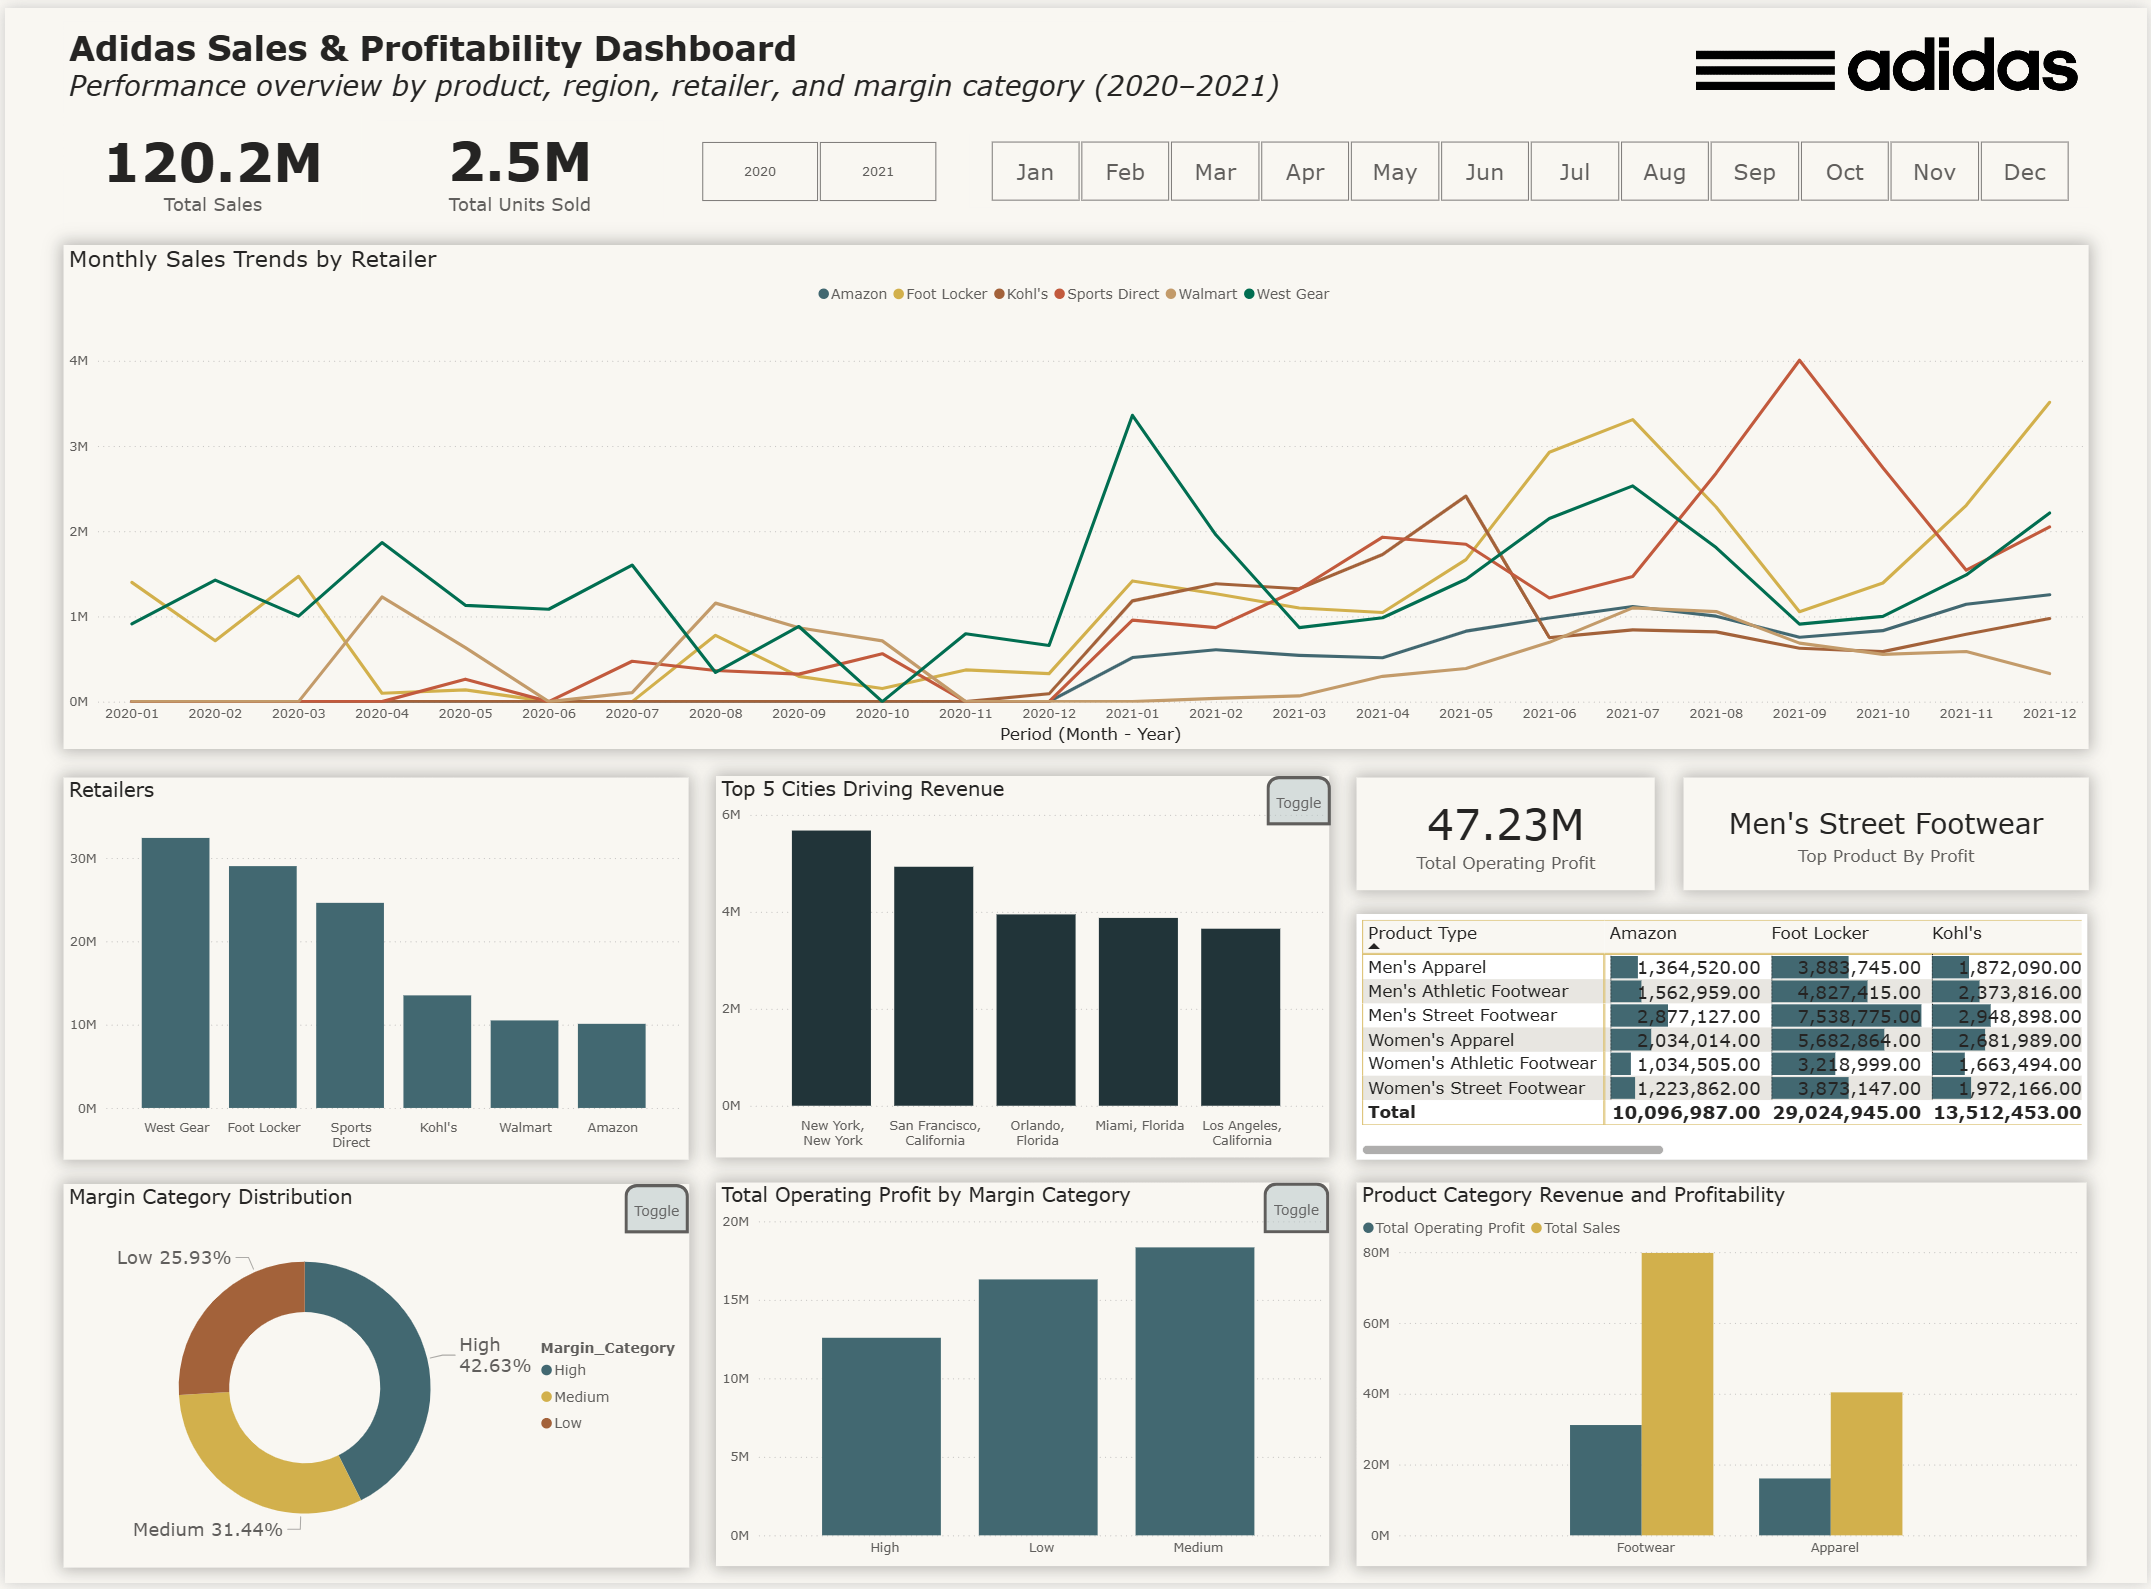

What the dashboard file says about the page in this screenshot:
{"tool":"powerbi","page":{"name":"Page 1","canvas":[2040,1500],"ordinal":0},"visuals":[{"type":"card","fields":{"Values":["mydb fact_sales.Total Sales (No Gaps)"]},"box":[55.7,100,284.3,108.6],"z":0},{"type":"donutChart","title":"Margin Category Distribution","fields":{"Category":["mydb dim_operatingmargin.Margin_Category"],"Y":["mydb fact_sales.Avg Operating Profit (Weighted)"]},"box":[56,1119.9,596.2,365],"z":0,"group":"g3"},{"type":"slicer","fields":{"Values":["mydb dim_date.Year"]},"box":[642.9,125.7,262.9,60],"z":1000},{"type":"columnChart","title":"Top 5 Cities Driving Revenue","fields":{"Category":["mydb dim_location.City_State"],"Y":["Sum(mydb fact_sales.Total_sales)"]},"box":[677,732,584.3,363],"z":1000,"group":"g1"},{"type":"clusteredColumnChart","title":"Total Operating Profit by Margin Category","fields":{"Category":["mydb dim_operatingmargin.Margin_Category"],"Y":["Sum(mydb fact_sales.Operating_Profit)"]},"box":[677,1119,584,365],"z":1000,"group":"g2"},{"type":"slicer","fields":{"Values":["mydb dim_date.MonthShort"]},"box":[918.6,120,1065.7,70],"z":2000},{"type":"columnChart","title":"Retailers","fields":{"Category":["mydb dim_retailer.Retailer_Name"],"Y":["Sum(mydb fact_sales.Total_sales)"]},"box":[56.2,732.5,595,363.8],"z":3000},{"type":"card","fields":{"Values":["mydb fact_sales.Total Units Sold"]},"box":[354.3,107.1,272.9,92.9],"z":4000},{"type":"lineChart","title":"Monthly Sales Trends by Retailer","fields":{"Category":["mydb dim_date.Month_Year"],"Series":["mydb dim_retailer.Retailer_Name"],"Y":["mydb fact_sales.Total Sales (No Gaps)"]},"box":[55.7,225.7,1928.6,480],"z":5000},{"type":"clusteredColumnChart","title":"Product Category Revenue and Profitability","fields":{"Y":["mydb fact_sales.Total Operating Profit","mydb fact_sales.Total Sales"],"Category":["mydb dim_product.Category"]},"box":[1287,1119,695,365],"z":6000},{"type":"pivotTable","fields":{"Values":["mydb fact_sales.Total Sales (No Gaps)"],"Columns":["mydb dim_retailer.Retailer_Name"],"Rows":["mydb dim_product.Product"]},"box":[1287,862.9,695.7,234.3],"z":7000},{"type":"group","id":"g1","title":"Location group","box":[677,732,584.3,363.5],"z":8000},{"type":"group","id":"g2","title":"Cost group","box":[677,1119,584,365],"z":9000},{"type":"actionButton","title":"Show Region","box":[1201.4,731.4,61.4,47.1],"z":10000},{"type":"actionButton","title":"Show Avg","box":[1198.6,1118.6,62.9,48.6],"z":13000},{"type":"group","id":"g3","title":"Margin group","box":[56,1119,596.3,365.9],"z":14000},{"type":"actionButton","title":"Show Mix","box":[590,1120,61.4,47.1],"z":16000},{"type":"card","fields":{"Values":["mydb fact_sales.Total Operating Profit"]},"box":[1287.1,732.9,284.3,107.1],"z":17000},{"type":"card","fields":{"Values":["mydb fact_sales.TopProductByProfit"]},"box":[1598.6,732.9,385.7,107.1],"z":18000},{"type":"textbox","box":[55.7,12.9,1174.3,87.1],"z":19000},{"type":"image","box":[1601.4,12.9,382.9,80],"z":20000}]}

Visuals, with their boxes in screenshot pixels (x1, y1, x2, y2), scaled from the page's 2040x1500 canvas onto the 2151x1589 screenshot:
card - mydb fact_sales.Total Sales (No Gaps): [59, 106, 358, 221]
"Margin Category Distribution" donutChart: [59, 1186, 688, 1573]
slicer - mydb dim_date.Year: [678, 133, 955, 197]
"Top 5 Cities Driving Revenue" columnChart: [714, 775, 1330, 1160]
"Total Operating Profit by Margin Category" clusteredColumnChart: [714, 1185, 1330, 1572]
slicer - mydb dim_date.MonthShort: [969, 127, 2092, 201]
"Retailers" columnChart: [59, 776, 687, 1161]
card - mydb fact_sales.Total Units Sold: [374, 113, 661, 212]
"Monthly Sales Trends by Retailer" lineChart: [59, 239, 2092, 748]
"Product Category Revenue and Profitability" clusteredColumnChart: [1357, 1185, 2090, 1572]
pivotTable - mydb fact_sales.Total Sales (No Gaps) x mydb dim_retailer.Retailer_Name: [1357, 914, 2091, 1162]
"Location group" group: [714, 775, 1330, 1160]
"Cost group" group: [714, 1185, 1330, 1572]
"Show Region" actionButton: [1267, 775, 1332, 825]
"Show Avg" actionButton: [1264, 1185, 1330, 1236]
"Margin group" group: [59, 1185, 688, 1573]
"Show Mix" actionButton: [622, 1186, 687, 1236]
card - mydb fact_sales.Total Operating Profit: [1357, 776, 1657, 890]
card - mydb fact_sales.TopProductByProfit: [1686, 776, 2092, 890]
textbox: [59, 14, 1297, 106]
image: [1689, 14, 2092, 98]
